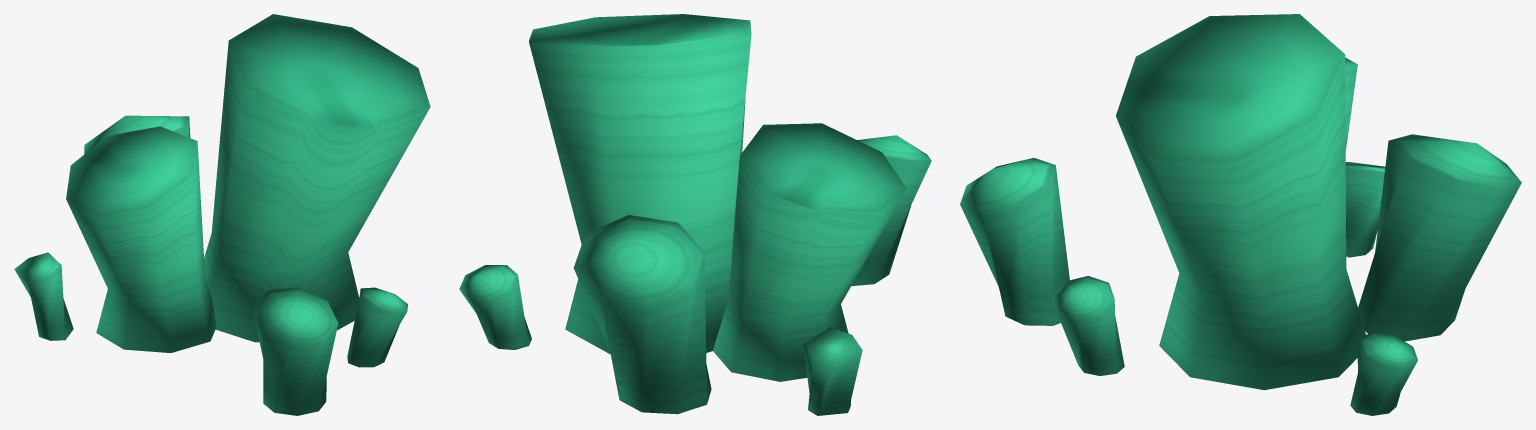
The model's file is GreenCluster2LOD.fbx.
3 views of the same model, side by side, from view 1: azimuth 30°, elevation 25°; view 2: azimuth 150°, elevation 25°; view 3: azimuth 270°, elevation 25° (orthographic). The views are drawn at different scales.
Visible parts, largest first — view 1: PurpleCluster3; view 2: PurpleCluster3; view 3: PurpleCluster3.
Part boxes in pixels (x1,y1,x2,y2): PurpleCluster3: (14,14,430,415); PurpleCluster3: (459,14,931,415); PurpleCluster3: (960,14,1521,415).
Size of the model in its own units: 99.13 by 75.43 by 119.
